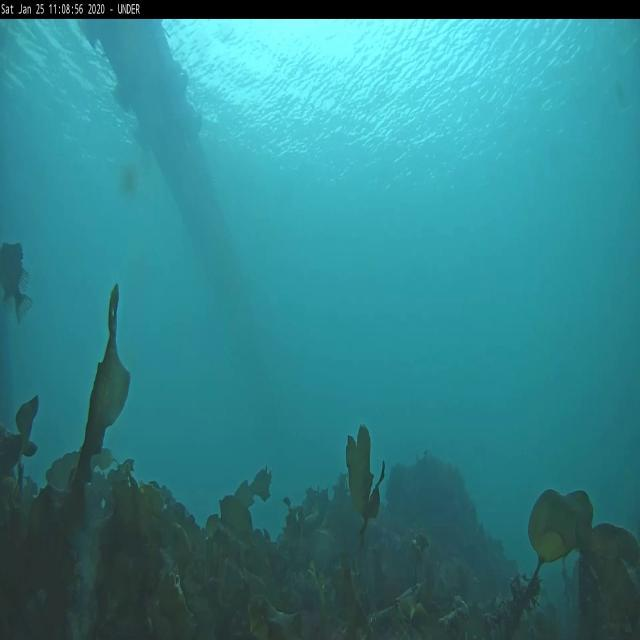fish: (0, 245, 39, 326)
